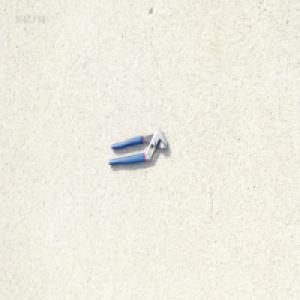Pliers: (107, 127, 167, 165)
